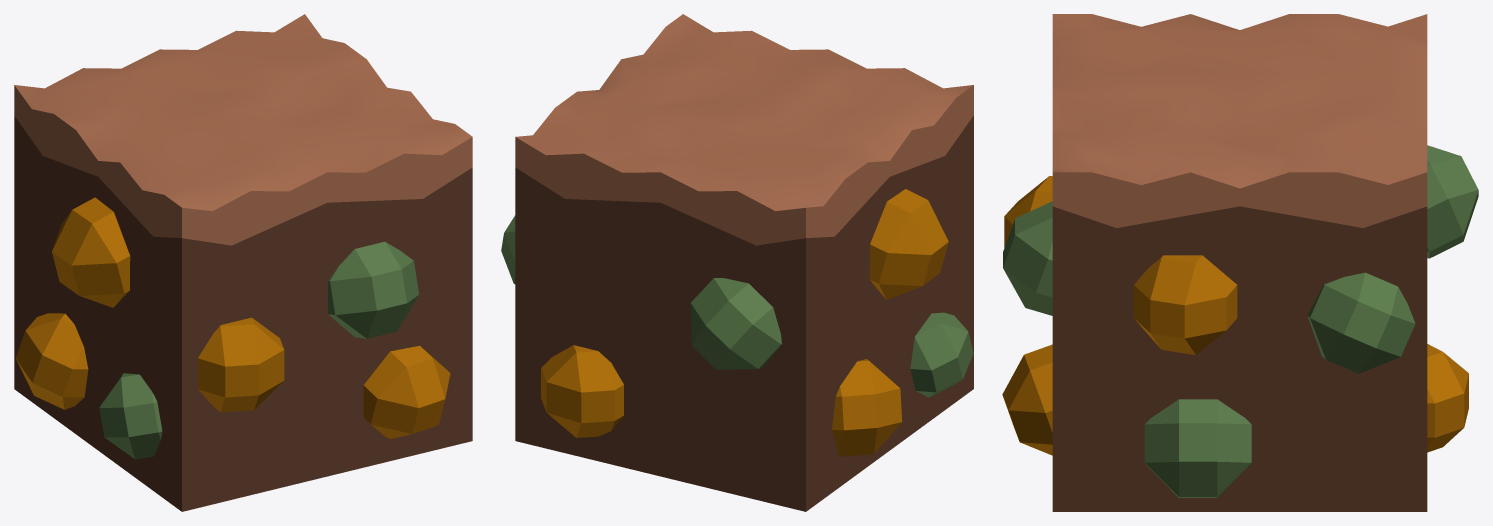
File: gem_cube_2 (2).fbx
3 views of the same model, side by side, from view 1: azimuth 30°, elevation 25°; view 2: azimuth 150°, elevation 25°; view 3: azimuth 270°, elevation 25° (orthographic). The views are drawn at different scales.
Visible parts, largest first — view 1: Tile3; view 2: Tile3; view 3: Tile3.
Part boxes in pixels (x1,y1,x2,y2): Tile3: (14, 14, 472, 511); Tile3: (501, 14, 973, 511); Tile3: (1002, 14, 1478, 511).
Bounding box in the file's own units: 18.65 × 14.5 × 18.43.
